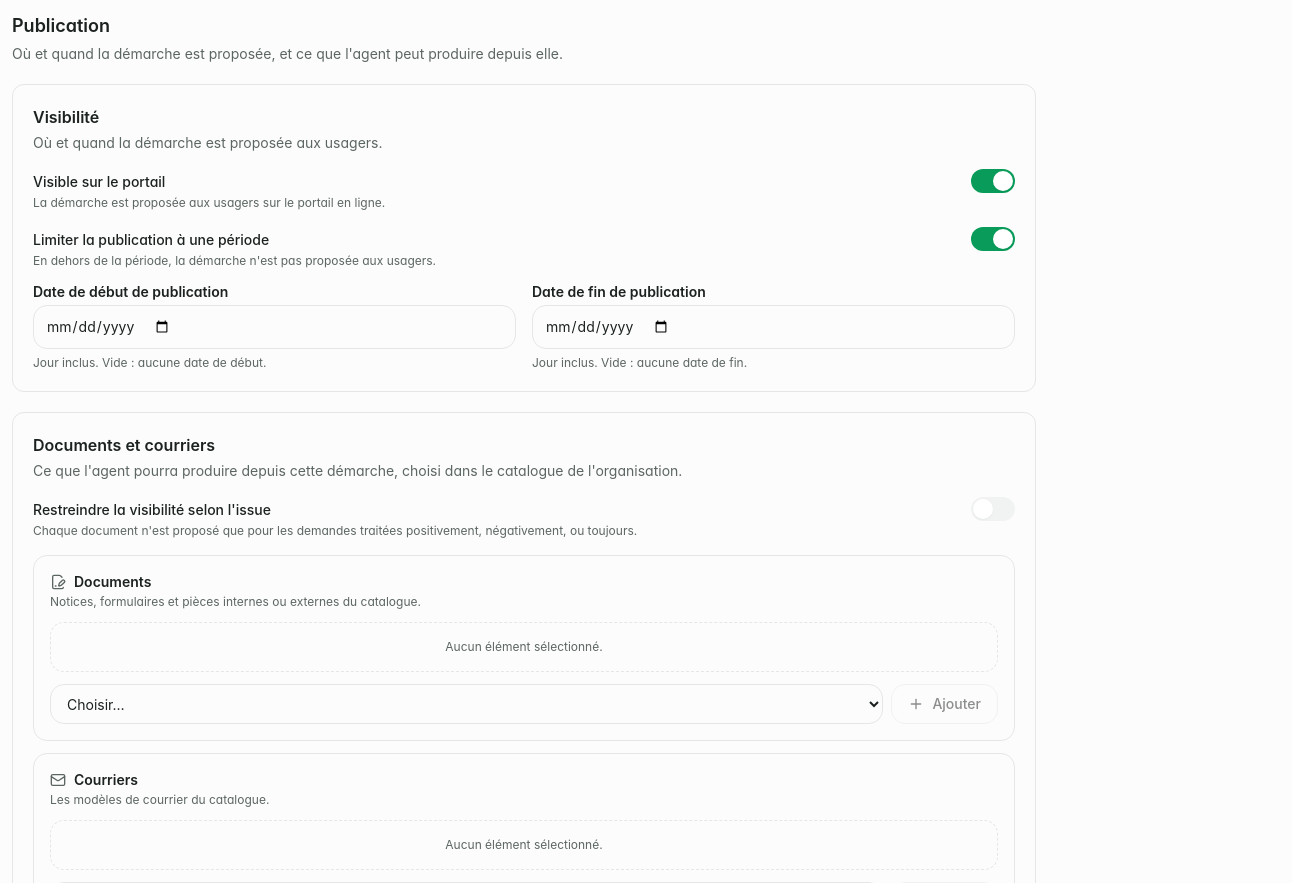
CommunicationStep — bloc Documents et courriers › ajoute un document et le retire de ce qui reste à proposer
The image size is (1292, 883).
Select "Notice explicative" in the dropdown named "Ajouter dans « Documents »" at (467, 704), box top-left (50, 684), bottom-right (883, 724)
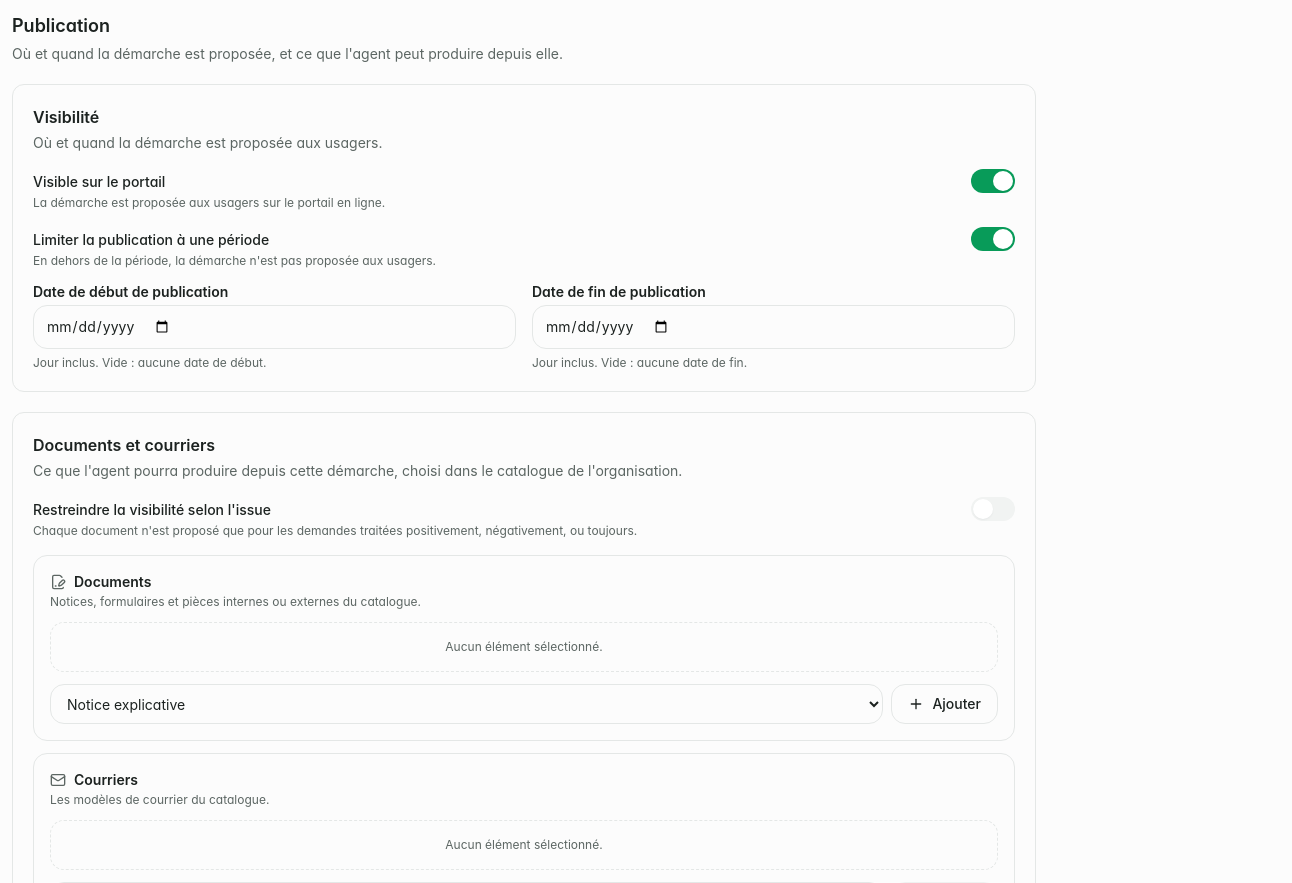
Click the 1st button "Ajouter" at (945, 704), box top-left (891, 684), bottom-right (998, 724)
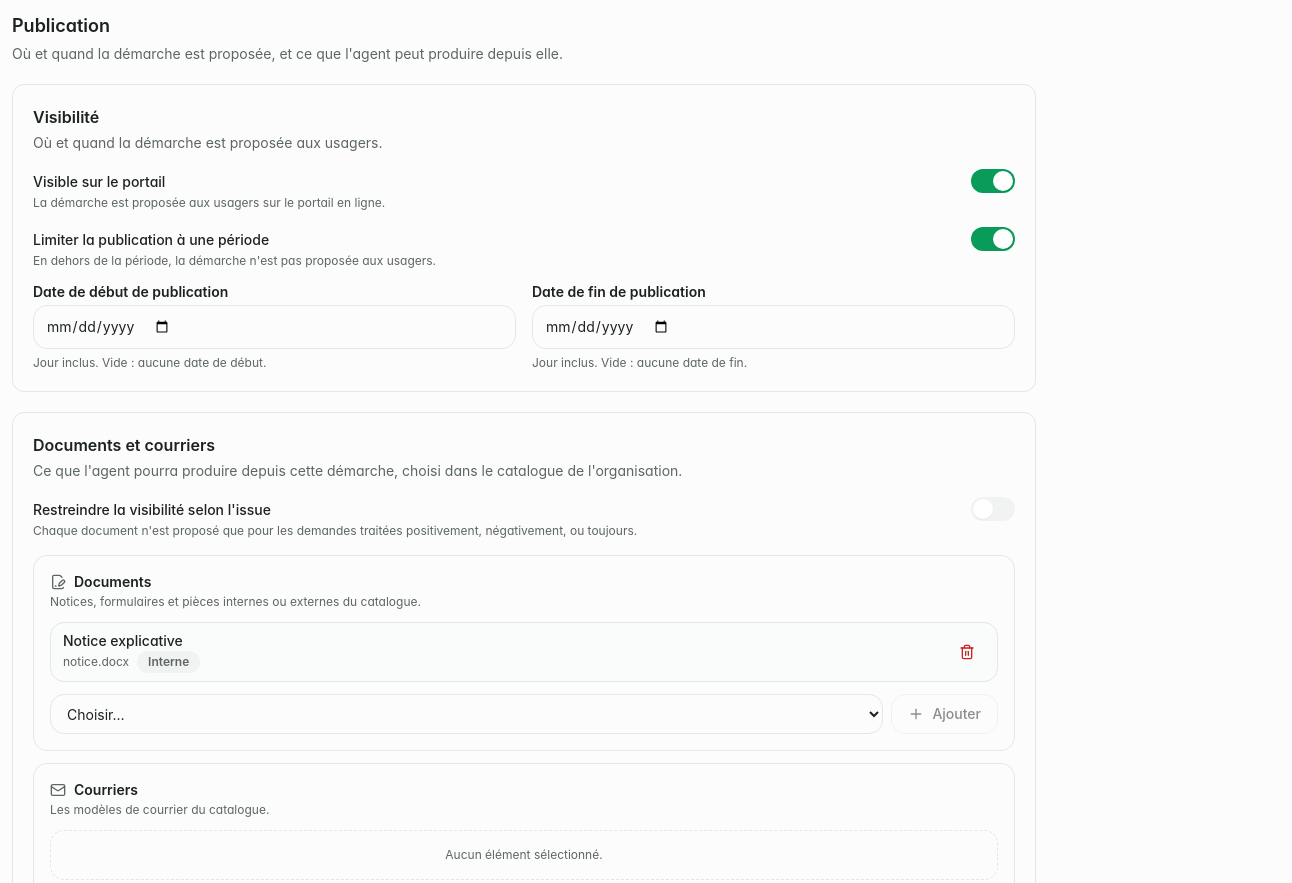
Expected: the text "Notice explicative" is shown, top-left (63, 632), bottom-right (183, 649)
